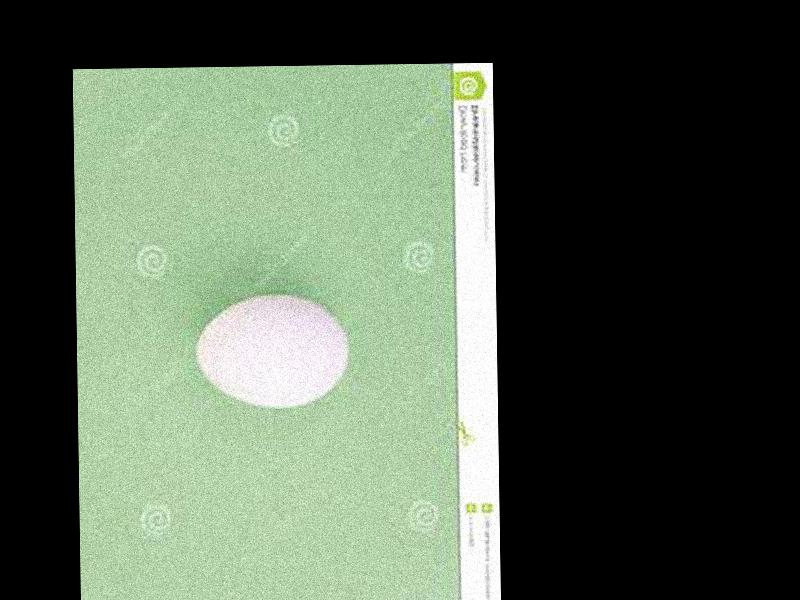Eggs: (197, 292, 348, 407)
